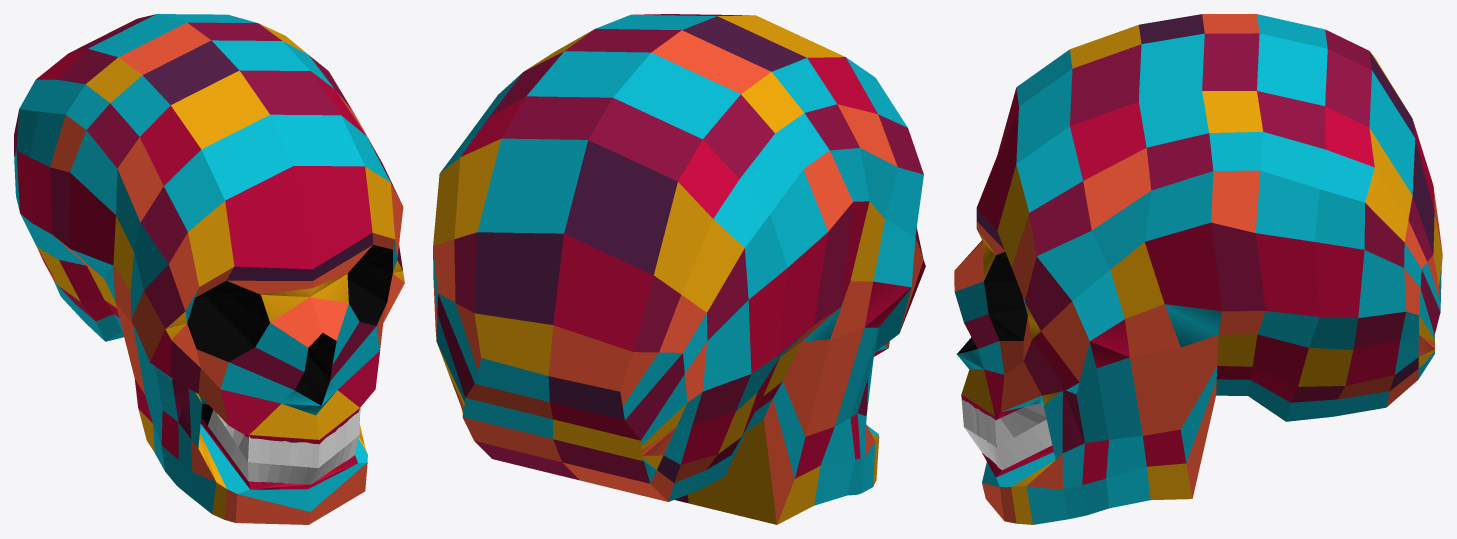
File: Skull1.fbx
3 renders of one model, left to right at view 1: azimuth 30°, elevation 25°; view 2: azimuth 150°, elevation 25°; view 3: azimuth 270°, elevation 25°, orthographic. The views are drawn at different scales.
Visible parts, largest first — view 1: Skull; view 2: Skull; view 3: Skull.
Boxes of the visible parts, left/top/right/bottom form: Skull: left=14, top=14, right=404, bottom=524; Skull: left=433, top=14, right=925, bottom=524; Skull: left=954, top=14, right=1442, bottom=524.
Size of the model in its own units: 339 by 486 by 459.
